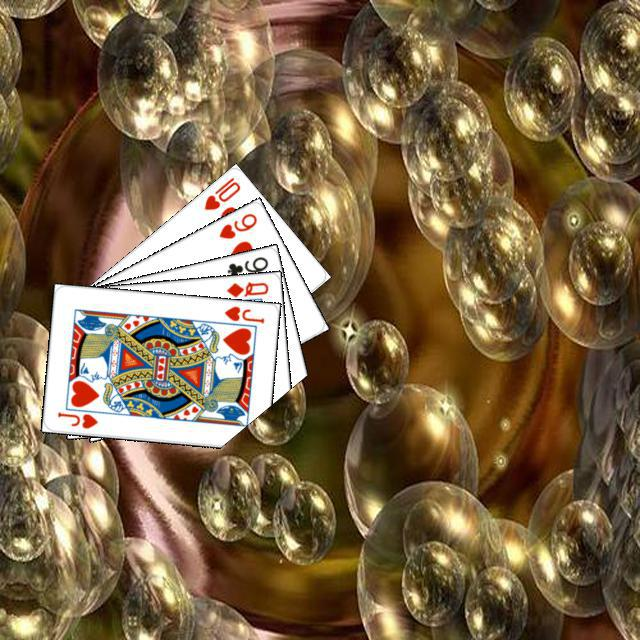10h: (199, 172, 242, 212)
9c: (222, 252, 270, 279)
9h: (214, 208, 259, 241)
Jh: (219, 301, 266, 325), (53, 407, 99, 430)
Qd: (222, 277, 270, 299)
